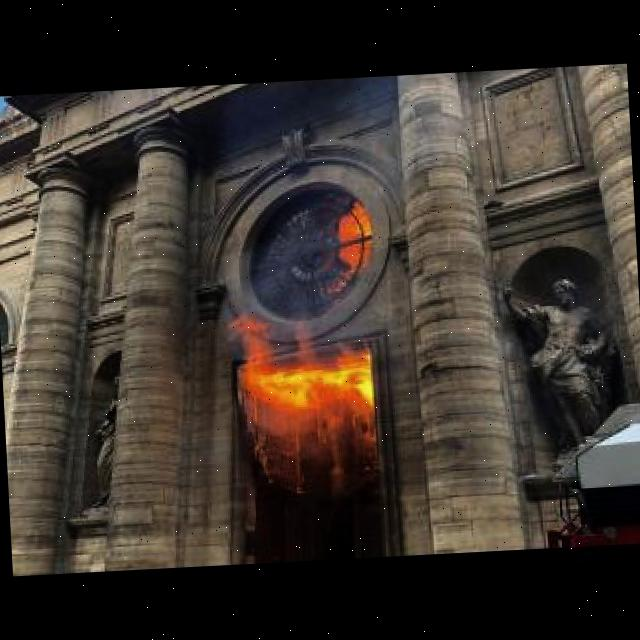fire: (224, 307, 384, 433), (328, 192, 382, 276)
